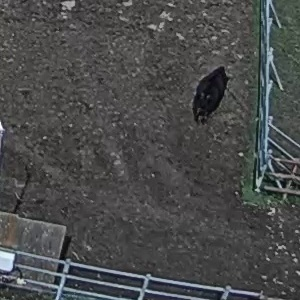cow: (184, 49, 241, 135)
